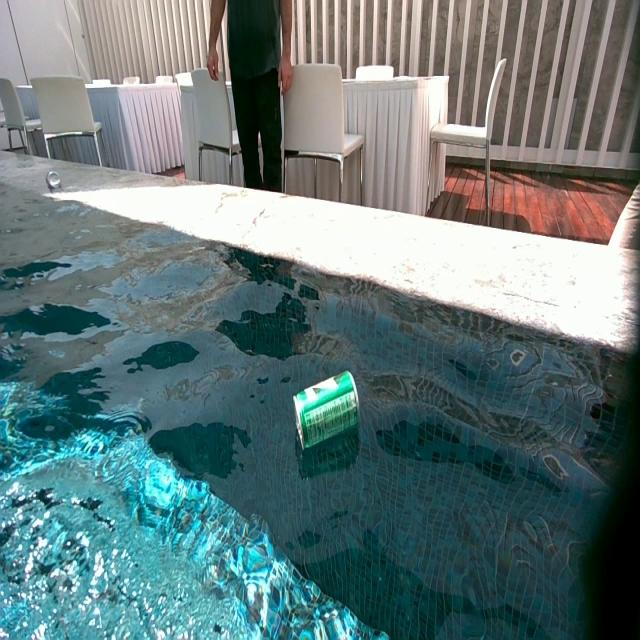Cans: (294, 372, 358, 455), (46, 170, 59, 188)
